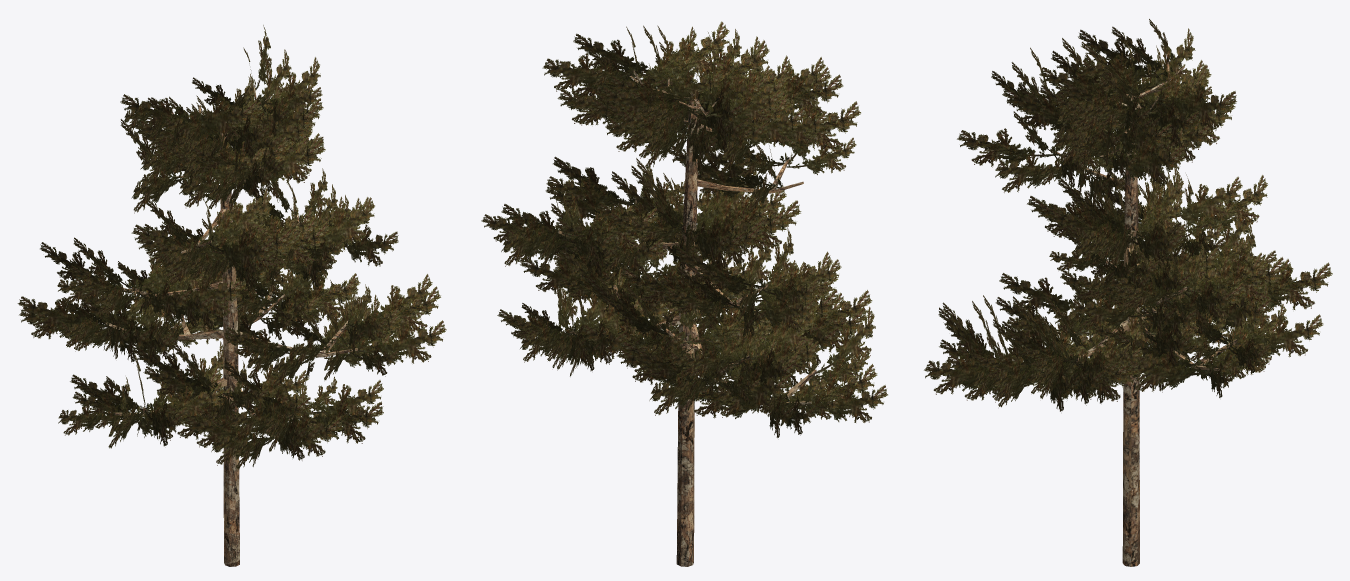
The model's file is tree1.glb.
3 views of the same model, side by side, from view 1: azimuth 30°, elevation 25°; view 2: azimuth 150°, elevation 25°; view 3: azimuth 270°, elevation 25° (orthographic). The views are drawn at different scales.
Visible parts, largest first — view 1: 12_pngaaa.com-2004453.001_0, 12_bark-4_0; view 2: 12_pngaaa.com-2004453.001_0, 12_bark-4_0; view 3: 12_pngaaa.com-2004453.001_0, 12_bark-4_0.
Part boxes in pixels (left/top/right/bottom): 12_pngaaa.com-2004453.001_0: left=17, top=25, right=446, bottom=470; 12_bark-4_0: left=105, top=84, right=357, bottom=566; 12_pngaaa.com-2004453.001_0: left=481, top=21, right=887, bottom=437; 12_bark-4_0: left=557, top=70, right=816, bottom=566; 12_pngaaa.com-2004453.001_0: left=924, top=19, right=1332, bottom=411; 12_bark-4_0: left=1041, top=54, right=1237, bottom=566.
Bounding box in the file's own units: 5.59 × 7.33 × 5.31.
Materials: 2 (2 with a texture image).
